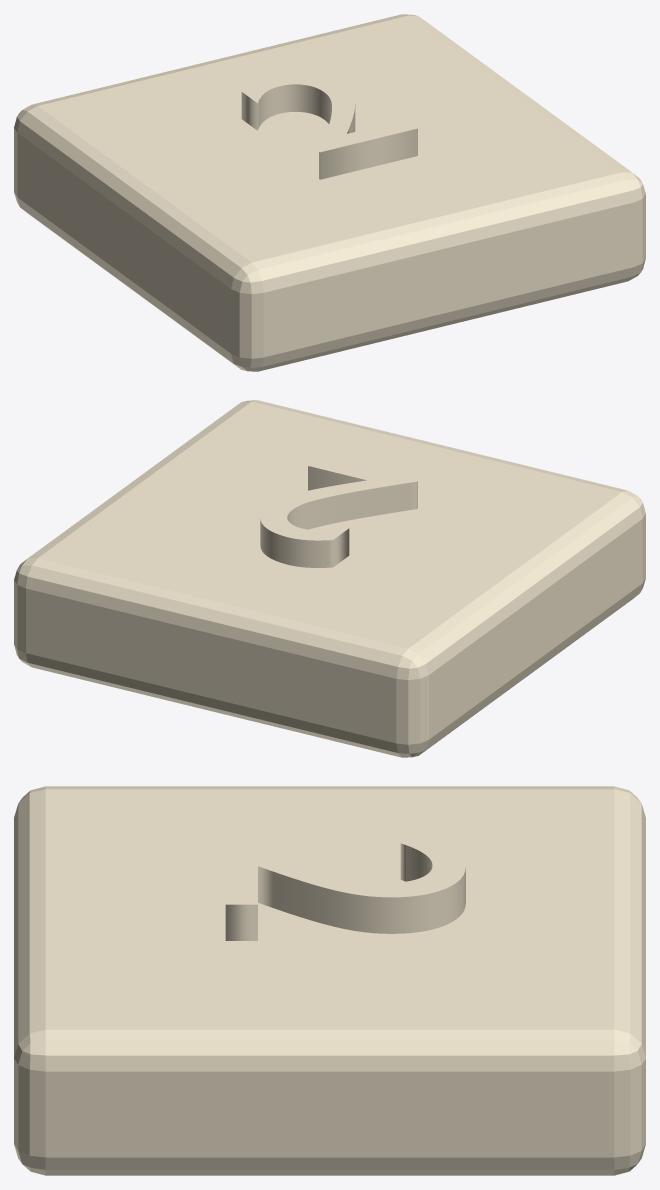
File: Tile_2.fbx
3 renders of one model, top to bottom at view 1: azimuth 30°, elevation 25°; view 2: azimuth 150°, elevation 25°; view 3: azimuth 270°, elevation 25°, orthographic. The views are drawn at different scales.
Visible parts, largest first — view 1: Tile_2; view 2: Tile_2; view 3: Tile_2.
Boxes of the visible parts, x1,y1,x2,y2 form: Tile_2: (14, 14, 645, 371); Tile_2: (14, 400, 645, 757); Tile_2: (14, 786, 645, 1175).
Size of the model in its own units: 80 by 25.1 by 80.
